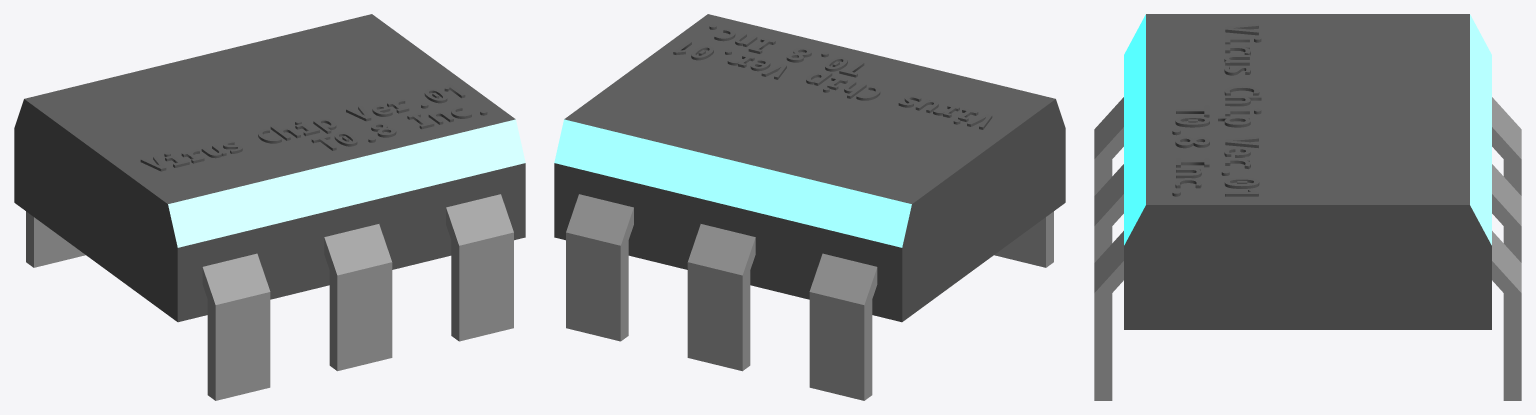
Rendered from V_Chip01_B.fbx.
3 views of the same model, side by side, from view 1: azimuth 30°, elevation 25°; view 2: azimuth 150°, elevation 25°; view 3: azimuth 270°, elevation 25° (orthographic). The views are drawn at different scales.
Visible parts, largest first — view 1: Virus_01; view 2: Virus_01; view 3: Virus_01.
Boxes of the visible parts, box(x1,y1,x2,y2) form: Virus_01: box(14, 14, 525, 400); Virus_01: box(554, 14, 1065, 400); Virus_01: box(1094, 14, 1521, 400).
Bounding box in the file's own units: 200 × 104 × 189.
